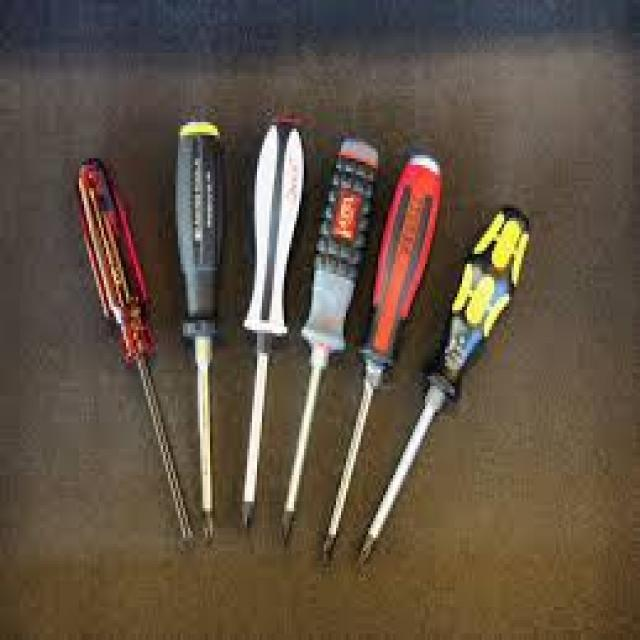screwdriver: (358, 200, 532, 566), (317, 153, 443, 566), (74, 152, 195, 548), (280, 133, 382, 550), (238, 110, 306, 540), (174, 121, 229, 544)
